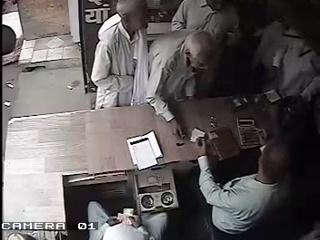Normal: (164, 92, 308, 240), (146, 28, 221, 141)
shoplifting: (90, 0, 150, 110)
